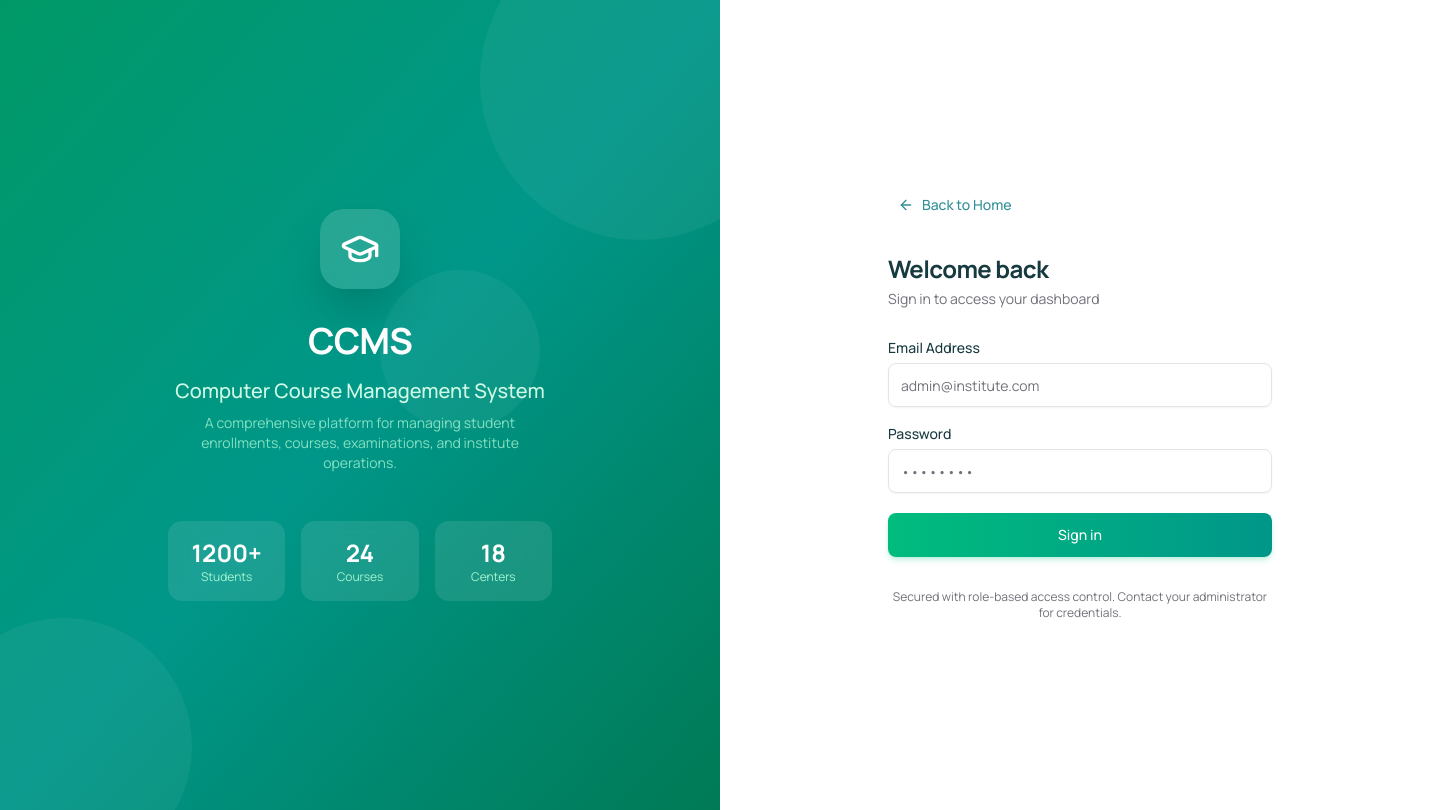
Test: LoginPage Integration Tests › should show form validation errors on empty fields submission (Negative Test)
Click the button "Sign in" at [1080, 535], box [888,513,1272,557]
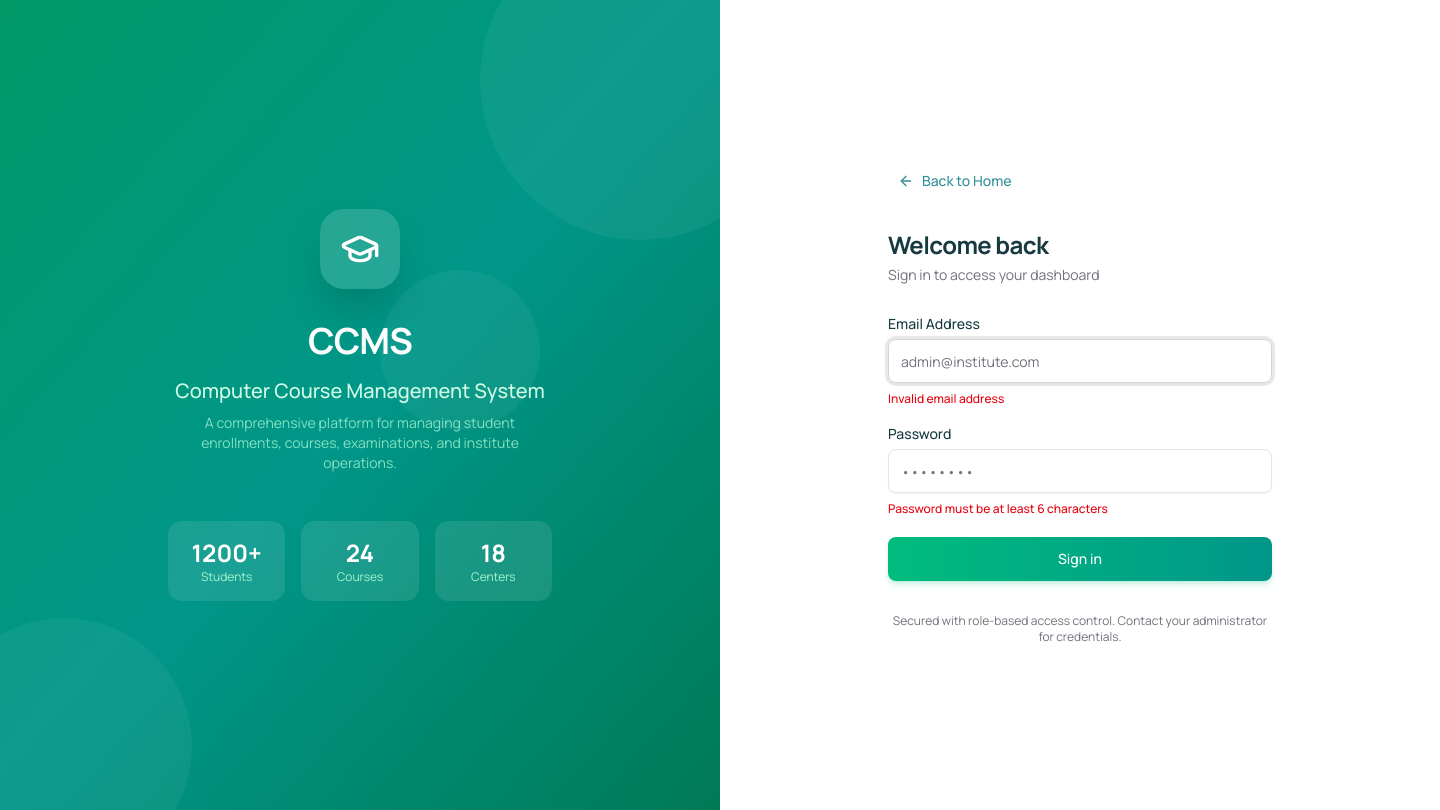
Result: the text "Invalid email address" is shown at [888,390,1004,407]
Result: the text "Password must be at least 6 characters" is shown at [888,500,1108,517]
